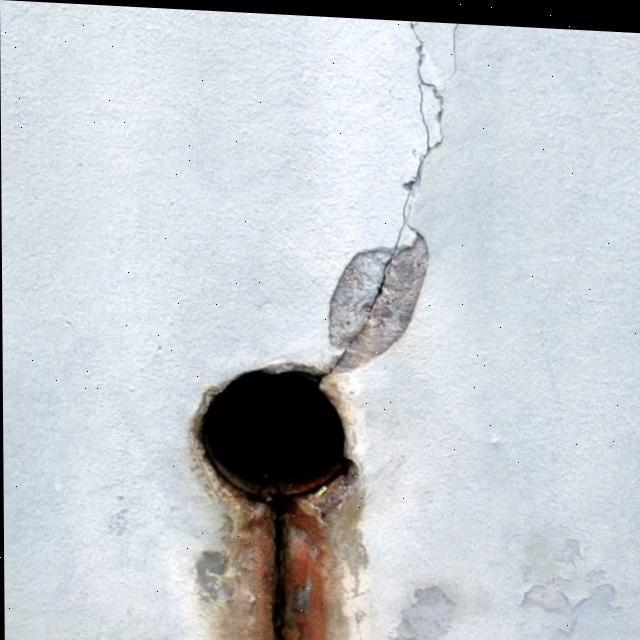D10: (326, 220, 429, 373), (326, 234, 429, 373)
